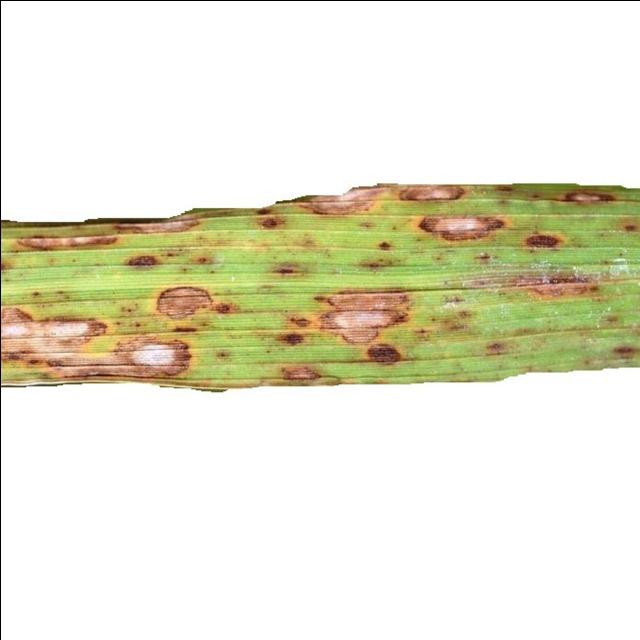Brown spot: (0, 174, 640, 393)
